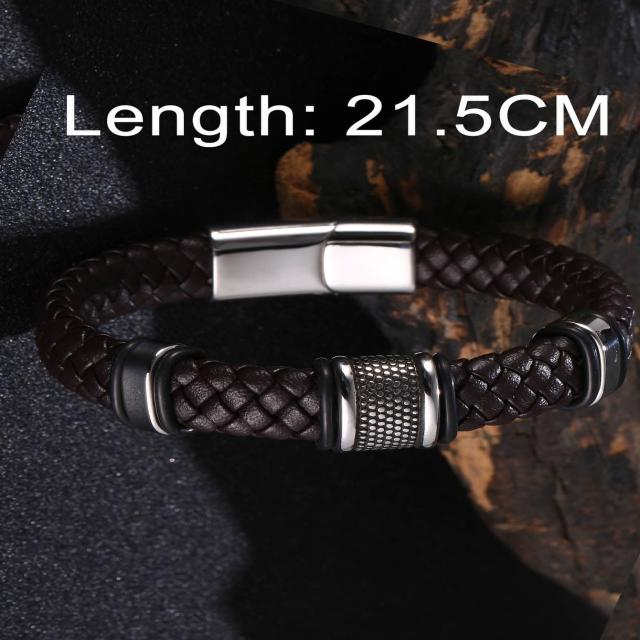bracelet: (92, 181, 640, 470)
